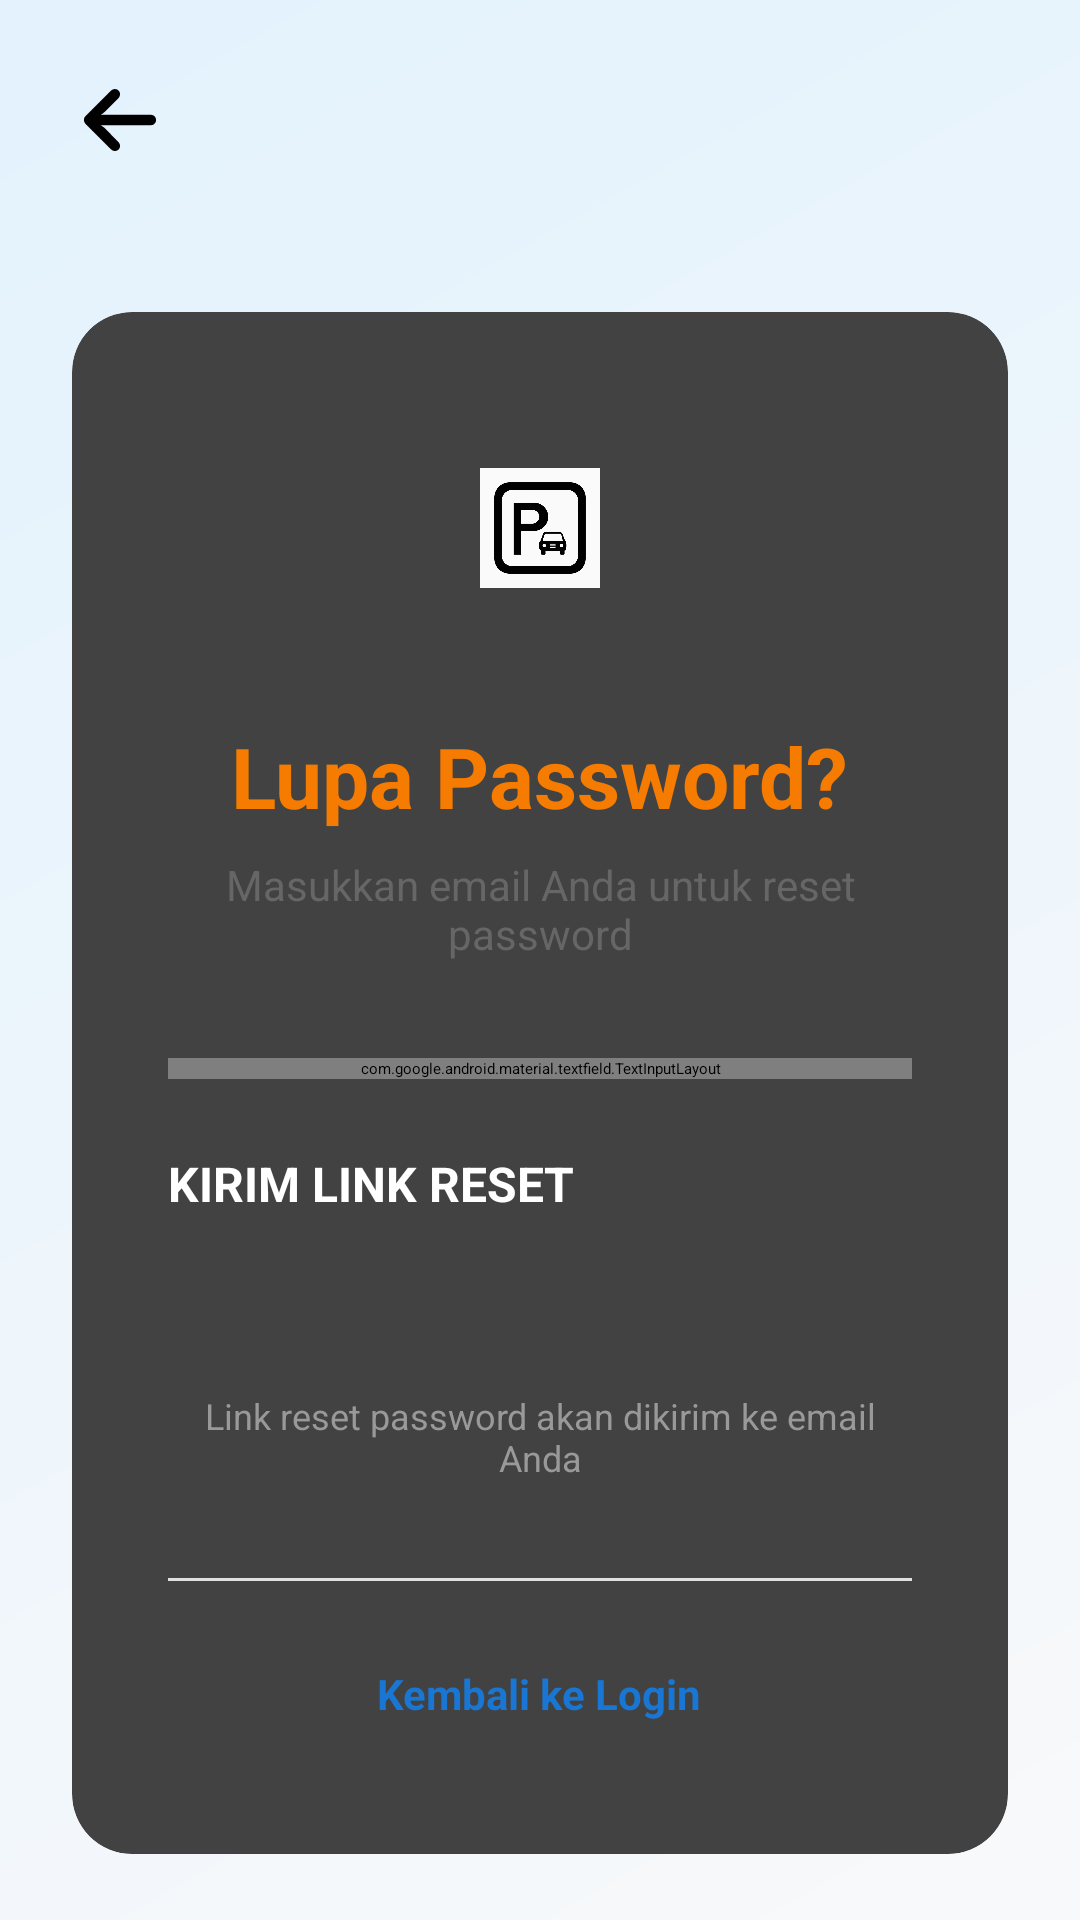

Named icons in this screenshot (1080×1920) and their centers, point (x, y):
arrow: point (120, 120)
